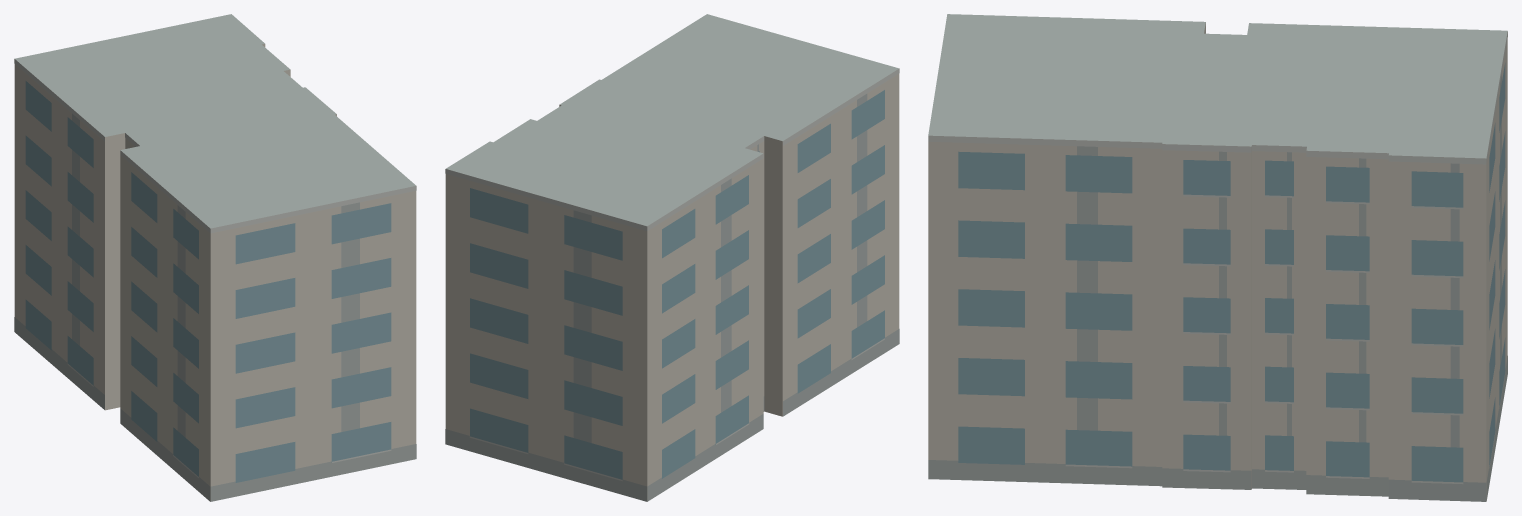
File: survey-upis-32766448.glb
3 renders of one model, left to right at view 1: azimuth 30°, elevation 25°; view 2: azimuth 150°, elevation 25°; view 3: azimuth 270°, elevation 25°, orthographic. The views are drawn at different scales.
Parts seen in each view (by area): view 1: survey-upis-32766448.tmp; view 2: survey-upis-32766448.tmp; view 3: survey-upis-32766448.tmp.
Part boxes in pixels (<box>): survey-upis-32766448.tmp: <box>14,14,416,501</box>; survey-upis-32766448.tmp: <box>445,14,899,501</box>; survey-upis-32766448.tmp: <box>928,14,1507,501</box>.
Bounding box in the file's own units: 12.37 × 13.7 × 20.97.
